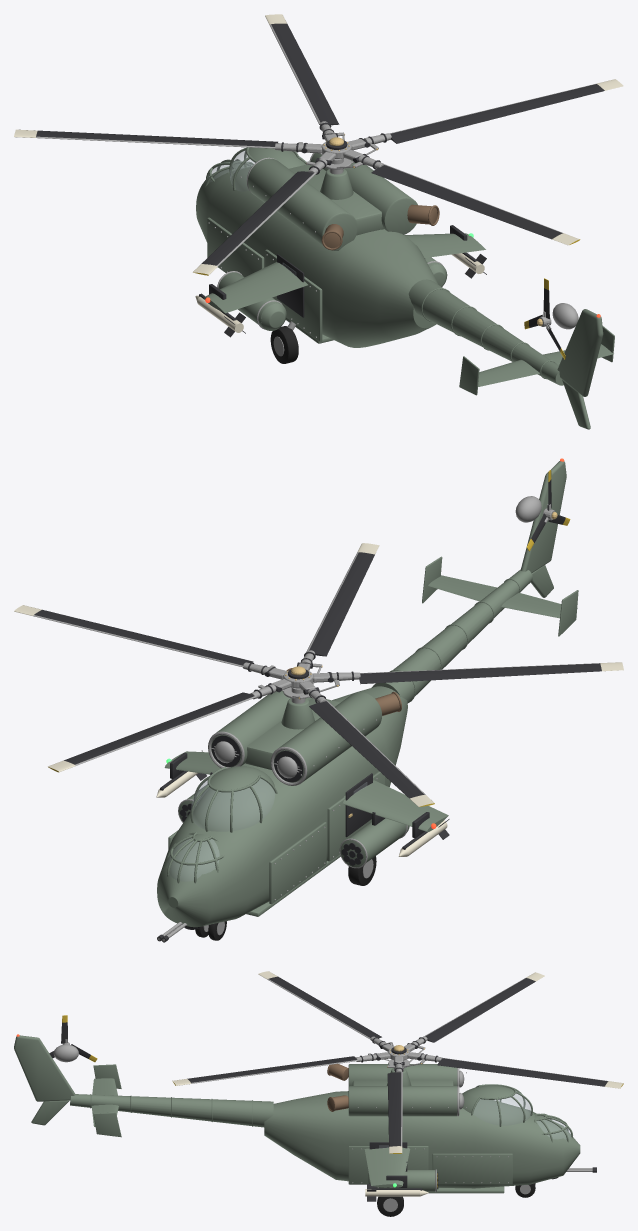
Rendered from heavy.glb.
3 renders of one model, top to bottom at view 1: azimuth 30°, elevation 25°; view 2: azimuth 150°, elevation 25°; view 3: azimuth 270°, elevation 25°, orthographic. The views are drawn at different scales.
Parts seen in each view (by area): view 1: body, rotor, tail_rotor; view 2: body, rotor, tail_rotor; view 3: body, rotor, tail_rotor.
Part boxes in pixels (bbox=[...]): body: bbox=[195, 143, 614, 429]; rotor: bbox=[14, 14, 623, 275]; tail_rotor: bbox=[524, 278, 565, 359]; body: bbox=[156, 458, 578, 942]; rotor: bbox=[14, 543, 623, 806]; tail_rotor: bbox=[527, 470, 570, 551]; body: bbox=[14, 1034, 596, 1216]; rotor: bbox=[172, 971, 623, 1153]; tail_rotor: bbox=[49, 1015, 97, 1062].
Bounding box in the file's own units: 10.25 × 4.52 × 14.48.
